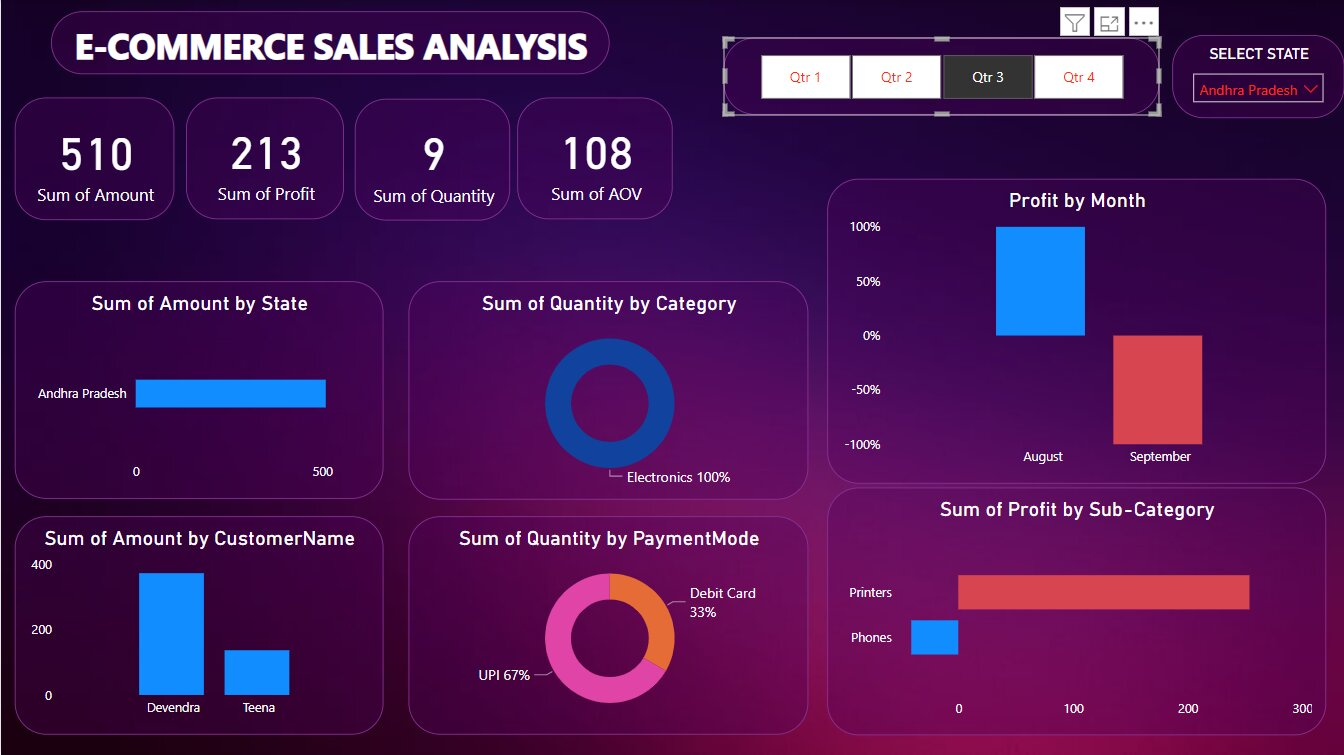

This screenshot's page, from the dashboard's own definition file:
{"tool":"powerbi","page":{"name":"Page 1","canvas":[1280,720],"ordinal":0},"visuals":[{"type":"textbox","title":"E-COMMERCE SALES ANALYSIS","box":[47,10.9,531.9,60.3],"z":0},{"type":"hundredPercentStackedColumnChart","title":"Profit by Month","fields":{"Category":["Orders.Order Date.Variation.Date Hierarchy.Month"],"Y":["Sum(Details.Profit)"]},"box":[786.3,170.1,475.2,290.7],"z":1000},{"type":"barChart","fields":{"Category":["Details.Sub-Category"],"Y":["Sum(Details.Profit)"]},"box":[786.3,464.3,475.2,236.4],"z":2000},{"type":"donutChart","fields":{"Category":["Details.Category"],"Y":["Sum(Details.Quantity)"]},"box":[388,267.4,381.2,208.4],"z":3000},{"type":"donutChart","fields":{"Y":["Sum(Details.Quantity)"],"Series":["Details.PaymentMode"]},"box":[388,492.2,381.2,208.4],"z":4000},{"type":"card","fields":{"Values":["Sum(Details.Amount)"]},"box":[13.3,92.9,152,117],"z":5000},{"type":"card","fields":{"Values":["Sum(Details.Profit)"]},"box":[176.1,92.9,150.8,115.8],"z":6000},{"type":"card","fields":{"Values":["Sum(Details.Quantity)"]},"box":[336.5,94.1,148.3,115.8],"z":7000},{"type":"barChart","fields":{"Category":["Orders.State"],"Y":["Sum(Details.Amount)"]},"box":[13.3,267.7,351,207.4],"z":8000},{"type":"columnChart","fields":{"Y":["Sum(Details.Amount)"],"Category":["Orders.CustomerName"]},"box":[13,492,351,208],"z":9000},{"type":"card","fields":{"Values":["Sum(Details.Column)"]},"box":[492.1,92.9,148.3,115.8],"z":10000},{"type":"slicer","fields":{"Values":["Orders.aov.Variation.Date Hierarchy.Quarter"]},"box":[688.6,36.2,414.9,73.6],"z":11000},{"type":"slicer","title":"SELECT STATE","fields":{"Values":["Orders.State"]},"box":[1115.6,33.8,164,79.6],"z":12000}]}

Visuals, with their boxes in screenshot pixels (x1, y1, x2, y2), scaled from the page's 1280x720 canvas onto the 1344x755 screenshot:
"E-COMMERCE SALES ANALYSIS" textbox: x1=49, y1=11, x2=608, y2=75
"Profit by Month" hundredPercentStackedColumnChart: x1=826, y1=178, x2=1325, y2=483
barChart - Details.Sub-Category x Sum(Details.Profit): x1=826, y1=487, x2=1325, y2=735
donutChart - Details.Category x Sum(Details.Quantity): x1=407, y1=280, x2=808, y2=499
donutChart - Sum(Details.Quantity) x Details.PaymentMode: x1=407, y1=516, x2=808, y2=735
card - Sum(Details.Amount): x1=14, y1=97, x2=174, y2=220
card - Sum(Details.Profit): x1=185, y1=97, x2=343, y2=219
card - Sum(Details.Quantity): x1=353, y1=99, x2=509, y2=220
barChart - Orders.State x Sum(Details.Amount): x1=14, y1=281, x2=383, y2=498
columnChart - Sum(Details.Amount) x Orders.CustomerName: x1=14, y1=516, x2=382, y2=734
card - Sum(Details.Column): x1=517, y1=97, x2=672, y2=219
slicer - Orders.aov.Variation.Date Hierarchy.Quarter: x1=723, y1=38, x2=1159, y2=115
"SELECT STATE" slicer: x1=1171, y1=35, x2=1343, y2=119
